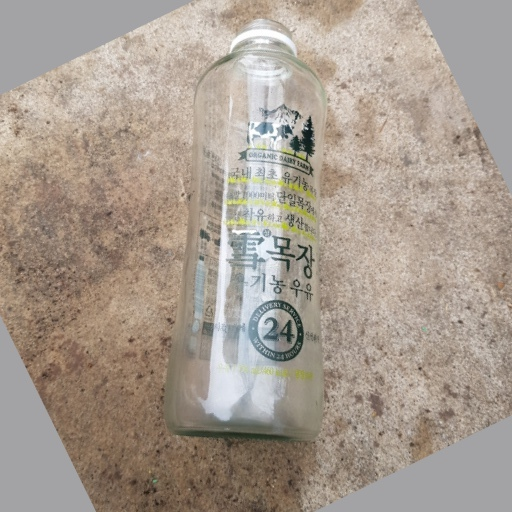Glass_4: (161, 16, 327, 450)
